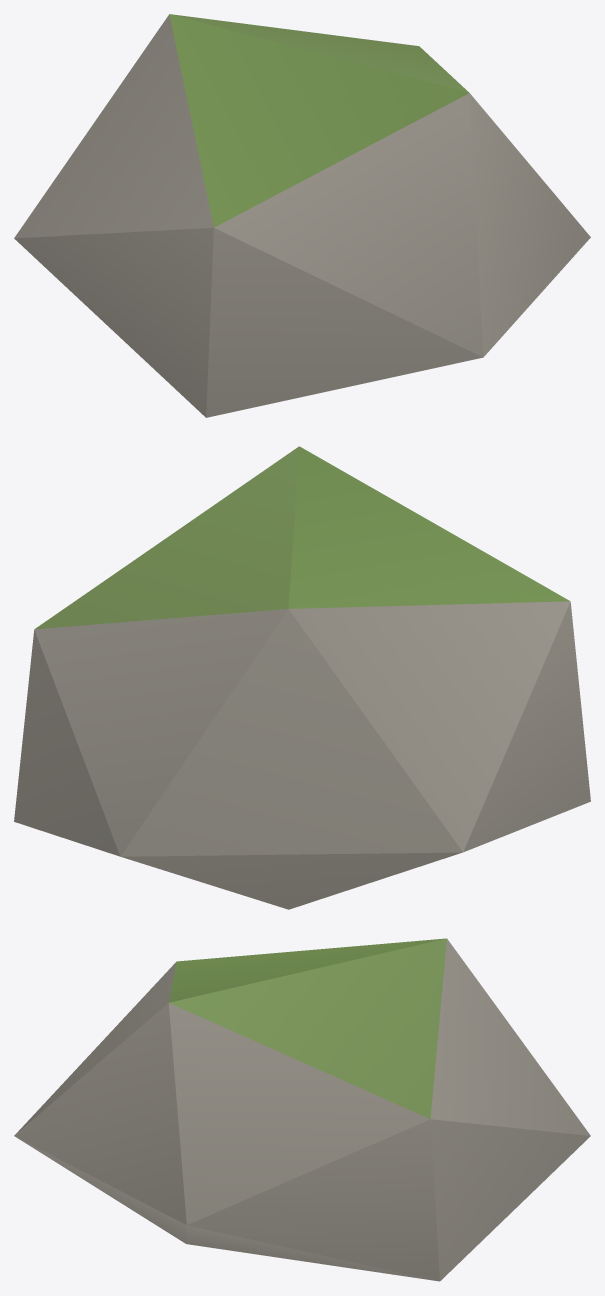
Rendered from rock_0.glb.
3 views of the same model, one above another, from view 1: azimuth 30°, elevation 25°; view 2: azimuth 150°, elevation 25°; view 3: azimuth 270°, elevation 25° (orthographic). The views are drawn at different scales.
Visible parts, largest first — view 1: rock_0; view 2: rock_0; view 3: rock_0.
Boxes of the visible parts, x1,y1,x2,y2 form: rock_0: (14,14,590,417); rock_0: (14,446,590,909); rock_0: (14,938,590,1281).
Size of the model in its own units: 0.9219 by 0.5649 by 1.18.
